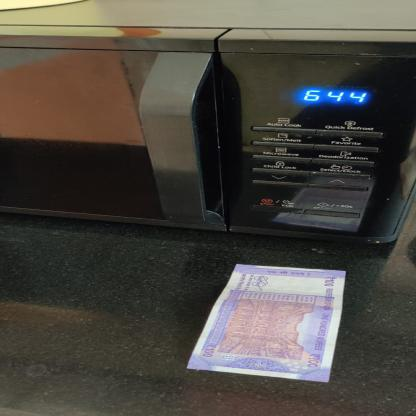New100Back: (186, 263, 352, 384)
